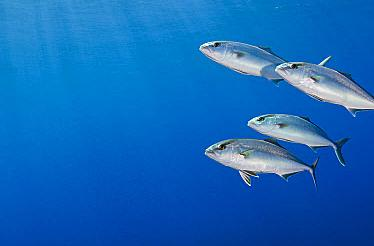Carangidae -Jacks-: (271, 56, 374, 138), (201, 130, 324, 196), (244, 109, 356, 168), (194, 28, 303, 85)
